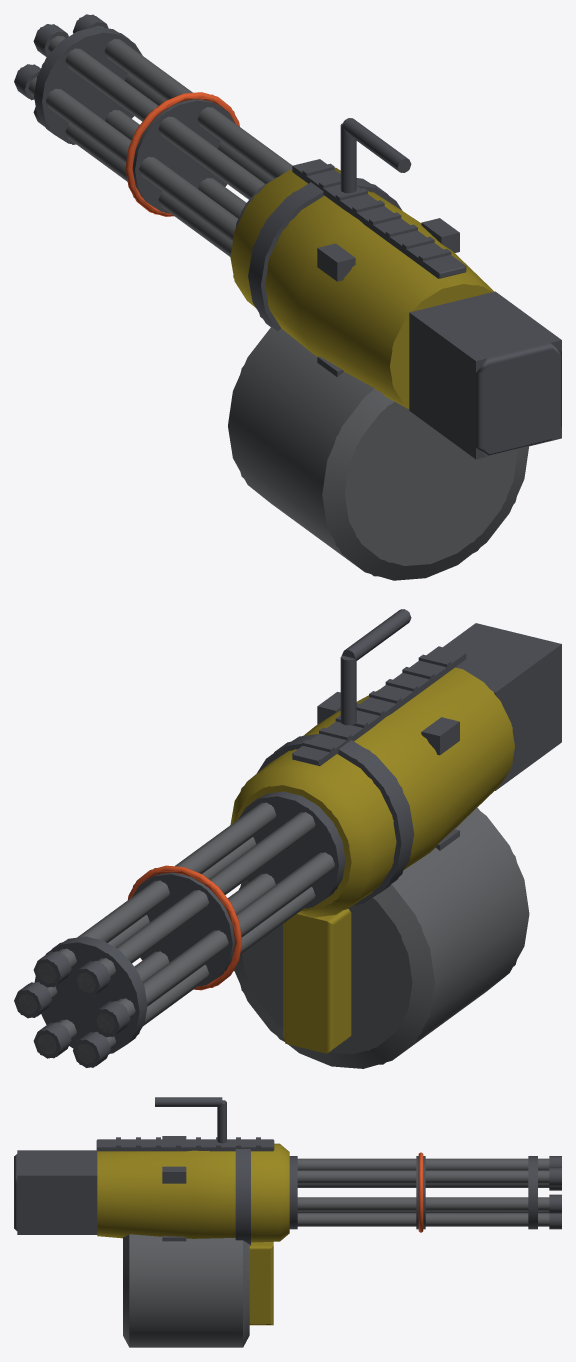
Rendered from minigun.glb.
3 views of the same model, one above another, from view 1: azimuth 30°, elevation 25°; view 2: azimuth 150°, elevation 25°; view 3: azimuth 270°, elevation 25° (orthographic). The views are drawn at different scales.
Parts seen in each view (by area): view 1: L0, L1; view 2: L0, L1; view 3: L0, L1.
Part boxes in pixels (bbox=[...]): L0: bbox=[14, 14, 561, 580]; L1: bbox=[20, 14, 561, 576]; L0: bbox=[14, 609, 561, 1068]; L1: bbox=[14, 609, 561, 1067]; L0: bbox=[14, 1097, 561, 1346]; L1: bbox=[17, 1097, 561, 1347].
Bounding box in the file's own units: 0.18 × 0.3352 × 0.684.
